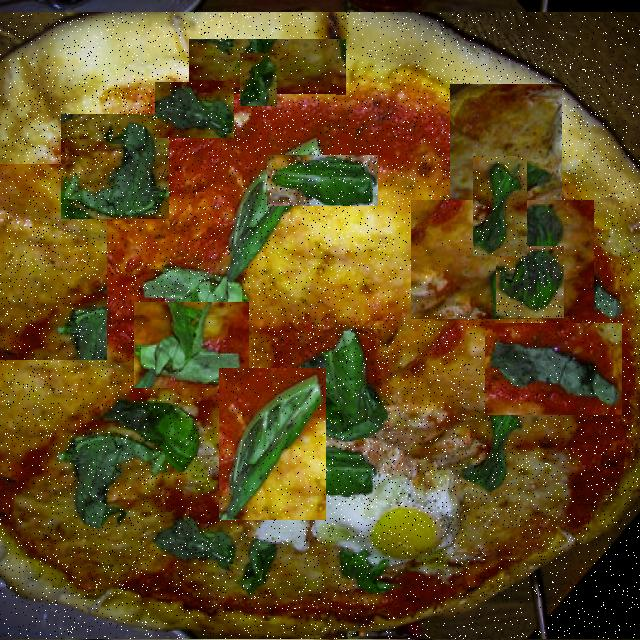Basil: (219, 368, 326, 520), (486, 323, 624, 415), (61, 114, 169, 219), (134, 302, 249, 388), (108, 180, 211, 258), (290, 219, 381, 305), (267, 155, 378, 206), (473, 156, 527, 256), (496, 246, 564, 318), (156, 82, 236, 138), (336, 54, 394, 100), (240, 55, 277, 106)
Cheese: (246, 314, 473, 501), (411, 200, 594, 319), (0, 164, 107, 360), (27, 78, 167, 187), (450, 84, 562, 200), (189, 40, 346, 96)
Pizza: (0, 12, 640, 639)
